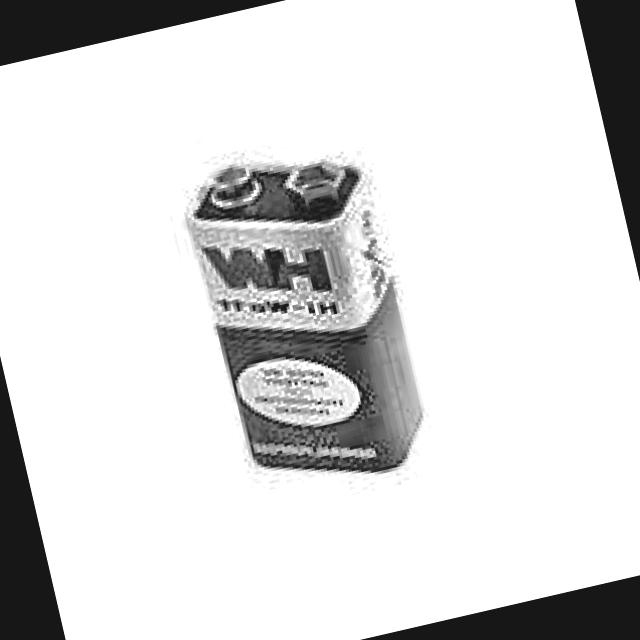Battery: (184, 147, 429, 496)
